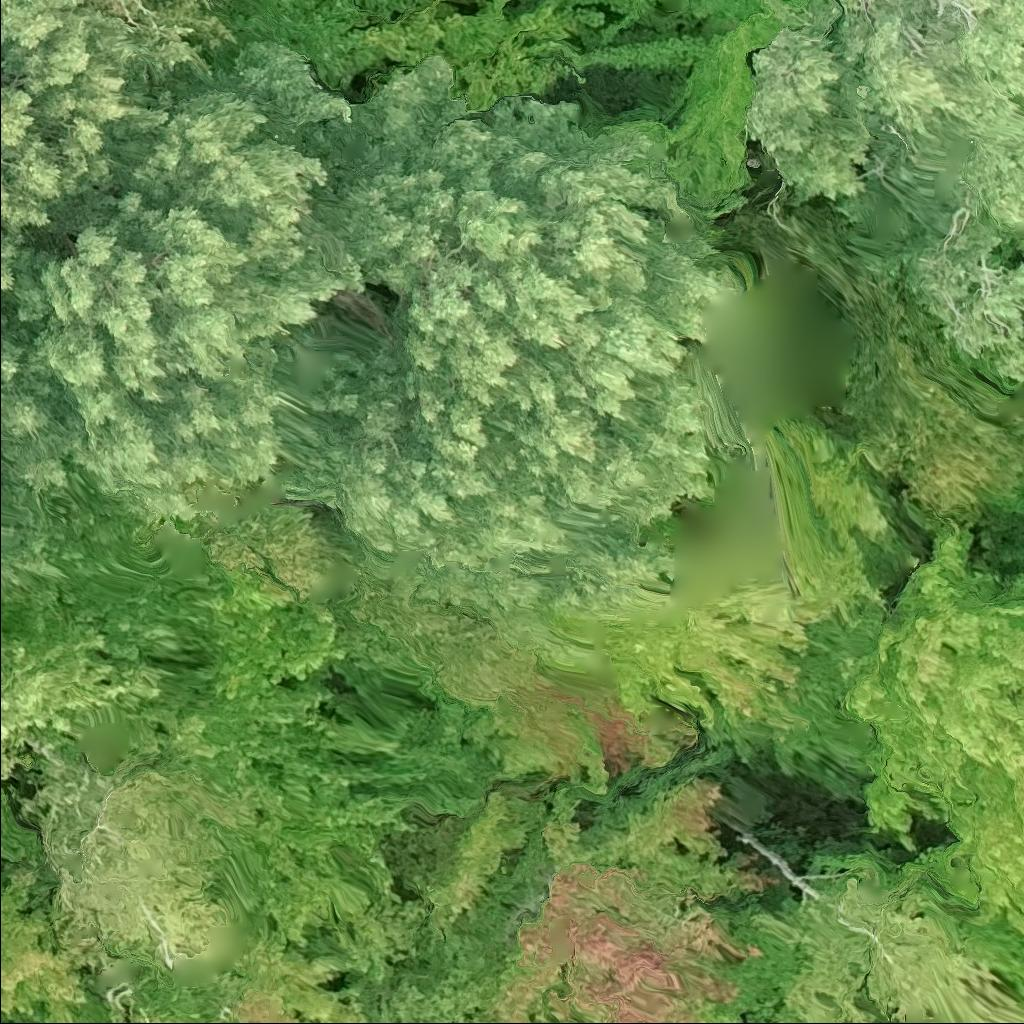crown: (0, 0, 199, 297)
